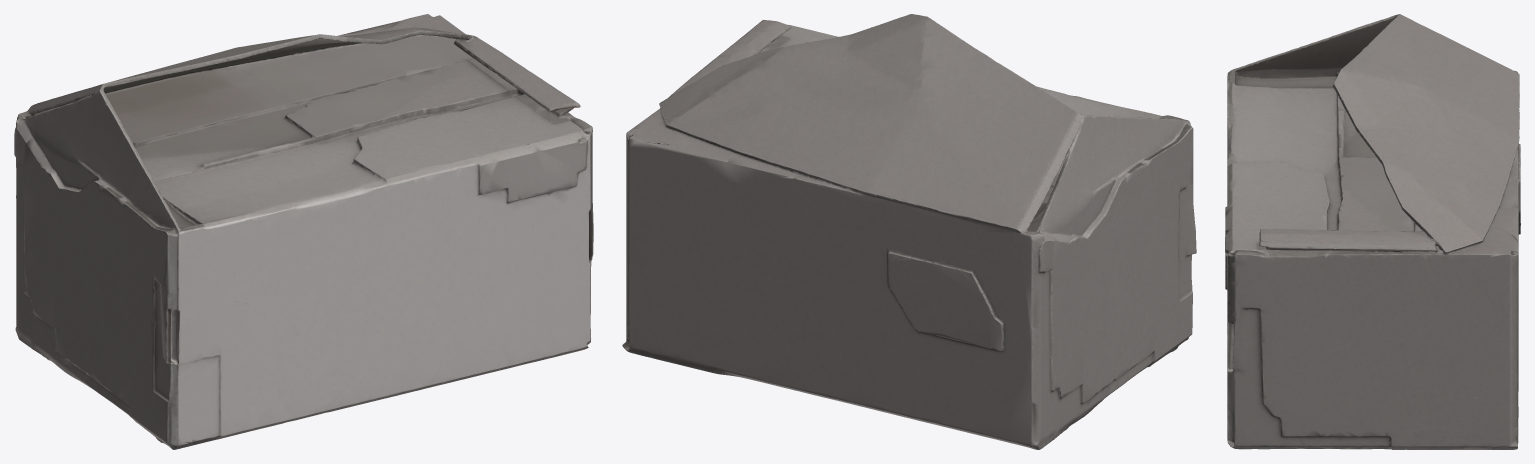
3 renders of one model, left to right at view 1: azimuth 30°, elevation 25°; view 2: azimuth 150°, elevation 25°; view 3: azimuth 270°, elevation 25°, orthographic. The views are drawn at different scales.
Size of the model in its own units: 1.9 by 1.37 by 1.26.
Materials: 1 (1 with a texture image).
